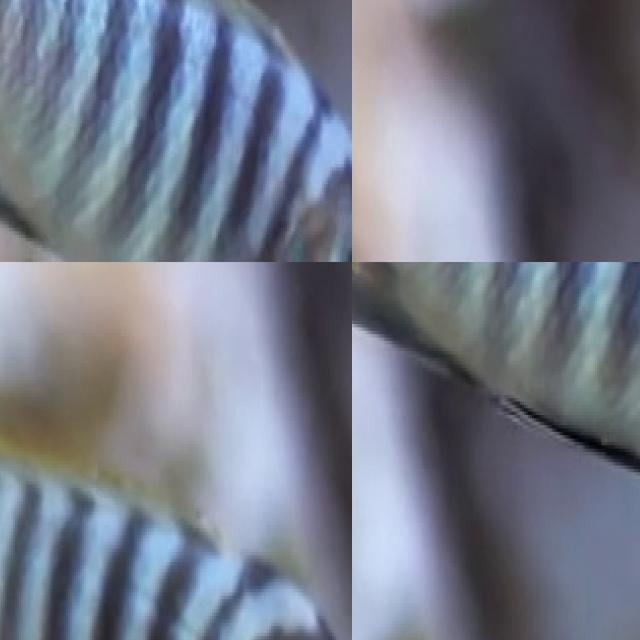fish: (0, 0, 352, 262), (352, 262, 640, 506)
